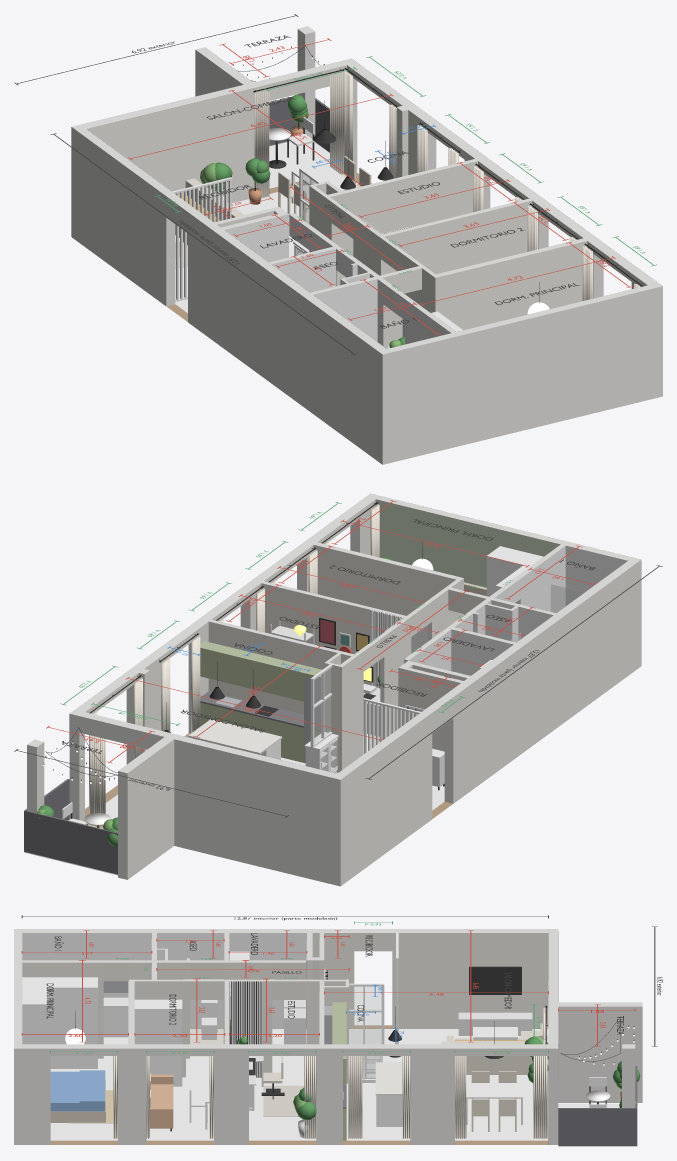
File: opcion-cierre-cocina.glb
3 views of the same model, one above another, from view 1: azimuth 30°, elevation 25°; view 2: azimuth 150°, elevation 25°; view 3: azimuth 270°, elevation 25° (orthographic). The views are drawn at different scales.
Visible parts, largest first — view 1: Pintura_paredes_cierre, Muros_cierre, Dinteles_antepechos, Cortina_terraza, Cota_lineas_Cota_roja, Separador_entrada, Suelo_terraza_baldosa, Cortina_salon, Suelo_tarima, Barandilla_terraza, Cota_lineas_Cota_negra, Mesa_comedor (+4 smaller); view 2: Pintura_paredes_cierre, Muros_cierre, Cocina, Barandilla_terraza, Dinteles_antepechos, Cota_lineas_Cota_roja, Cierre_cocina, Isla_cocina, Cortina_cocina, Armario_L_principal, Separador_entrada, Cortina_terraza (+5 smaller); view 3: Pintura_paredes_cierre, Suelo_tarima, Muros_cierre, Armario_L_principal, Barandilla_terraza, Dinteles_antepechos, Armario_dorm2, Cama_principal, Mueble_TV, Cierre_cocina, Cortina_salon, Estudio_listones_madera (+24 smaller).
Boxes of the visible parts, x1,y1,x2,y2 form: Pintura_paredes_cierre: [71, 29, 662, 464]; Muros_cierre: [72, 26, 662, 354]; Dinteles_antepechos: [167, 61, 641, 298]; Cortina_terraza: [254, 72, 344, 198]; Cota_lineas_Cota_roja: [128, 38, 632, 334]; Separador_entrada: [172, 177, 232, 301]; Suelo_terraza_baldosa: [269, 141, 329, 188]; Cortina_salon: [342, 71, 396, 178]; Suelo_tarima: [175, 182, 389, 348]; Barandilla_terraza: [269, 97, 329, 152]; Cota_lineas_Cota_negra: [14, 14, 357, 355]; Mesa_comedor: [291, 163, 357, 203]; Pintura_paredes_cierre: [27, 496, 641, 886]; Muros_cierre: [27, 493, 640, 779]; Cocina: [200, 641, 322, 763]; Barandilla_terraza: [24, 779, 117, 874]; Dinteles_antepechos: [75, 508, 520, 736]; Cota_lineas_Cota_roja: [46, 500, 594, 763]; Cierre_cocina: [304, 663, 338, 772]; Isla_cocina: [188, 719, 282, 759]; Cortina_cocina: [161, 635, 200, 738]; Armario_L_principal: [486, 546, 543, 596]; Separador_entrada: [363, 698, 421, 753]; Cortina_terraza: [92, 736, 105, 813]; Pintura_paredes_cierre: [14, 929, 642, 1144]; Suelo_tarima: [50, 1029, 548, 1140]; Muros_cierre: [14, 929, 642, 1048]; Armario_L_principal: [22, 977, 97, 1068]; Barandilla_terraza: [558, 1066, 637, 1145]; Dinteles_antepechos: [50, 929, 558, 1048]; Armario_dorm2: [134, 999, 182, 1086]; Cama_principal: [50, 1070, 105, 1122]; Mueble_TV: [458, 966, 532, 1035]; Cierre_cocina: [347, 983, 384, 1082]; Cortina_salon: [455, 1056, 547, 1138]; Estudio_listones_madera: [229, 981, 262, 1077].
Size of the model in its own units: 8.07 by 2.7 by 15.87.
